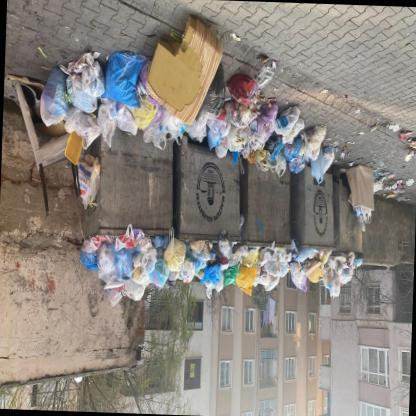Garbage: (77, 237, 199, 308), (250, 111, 330, 173), (55, 74, 142, 131), (200, 235, 272, 292), (92, 50, 152, 114), (272, 246, 344, 298), (232, 76, 264, 156), (306, 248, 364, 291)
